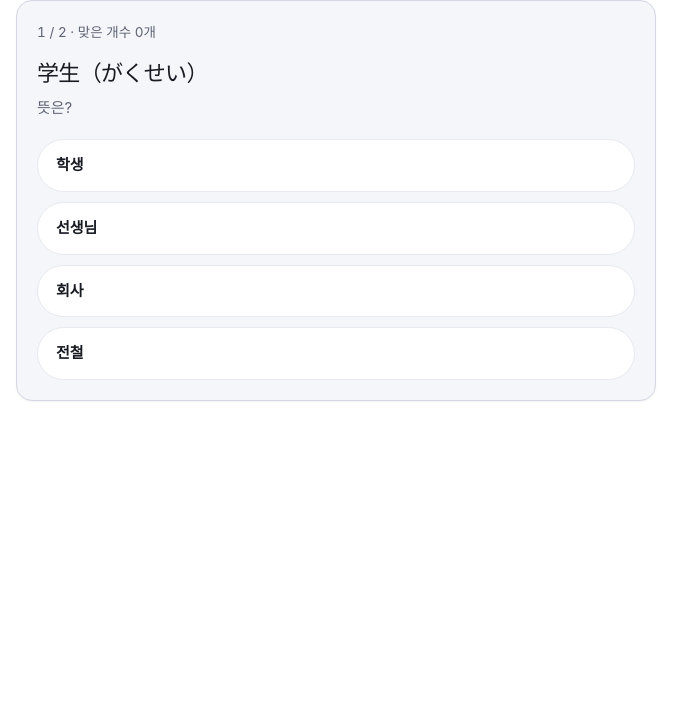
결과 화면 (Q13~Q17·Q23) › 틀린 게 있으면 [틀린 문제만 다시 풀기]가 보이고, 누르면 오답만 다시 나온다 (Q15)
Step 1. Click the button "학생" → (70, 165), box [37,139,635,192]
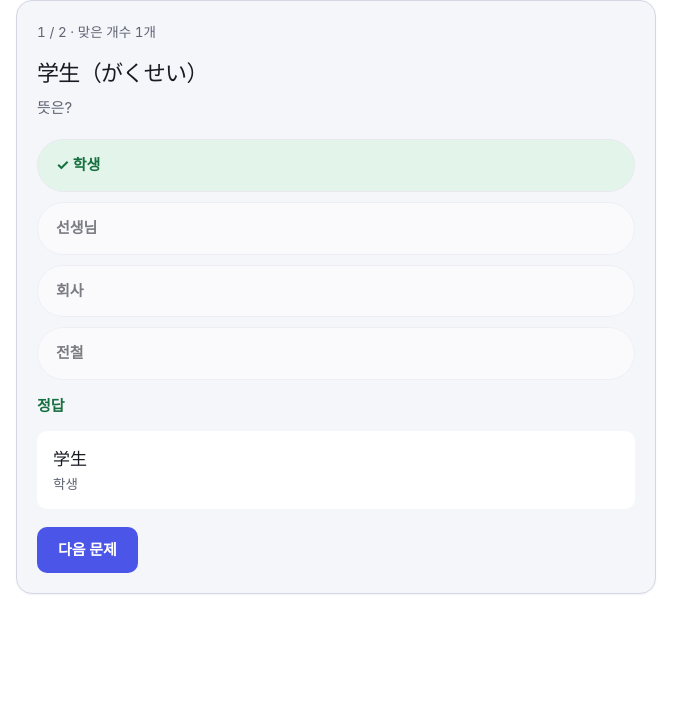
Step 2. Click the button "다음 문제" → (87, 550), box [37,527,138,573]
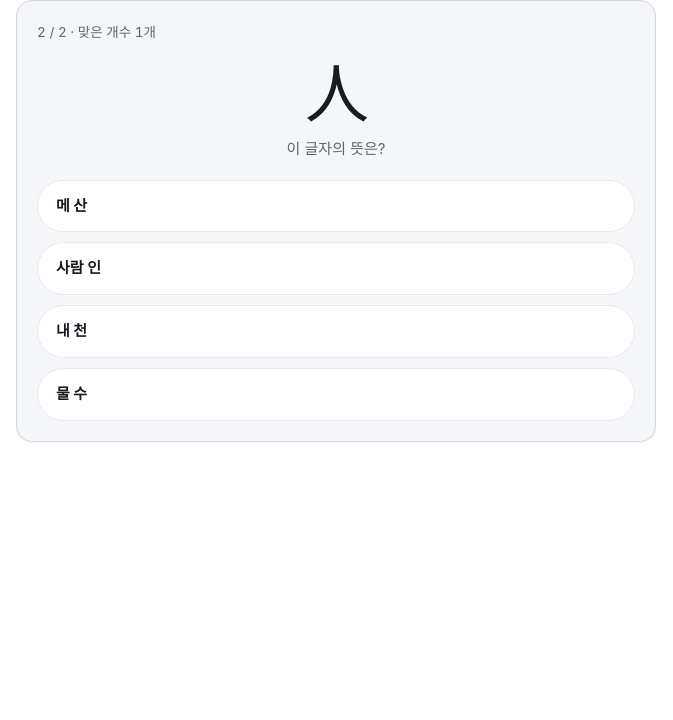
Step 3. Click the button "메 산" → (72, 205), box [37,180,635,232]
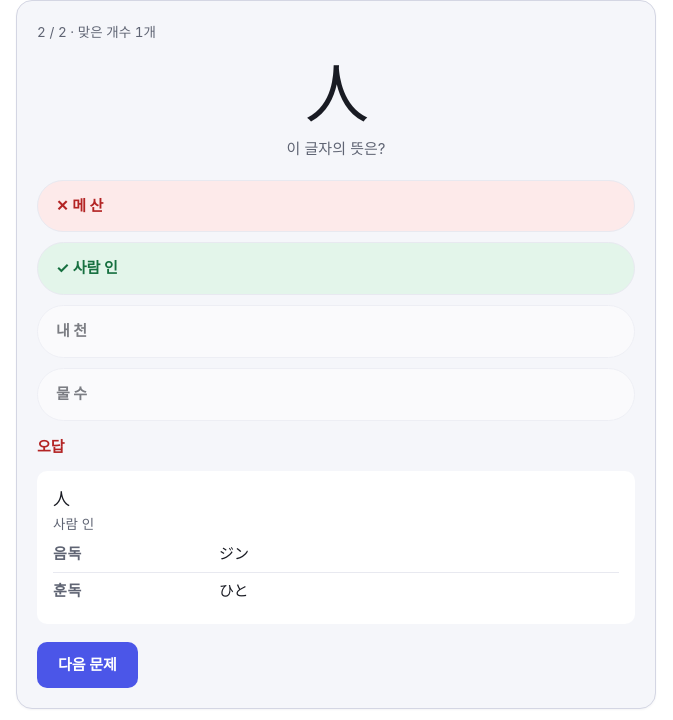
Step 4. Click the button "다음 문제" → (87, 665), box [37,642,138,688]
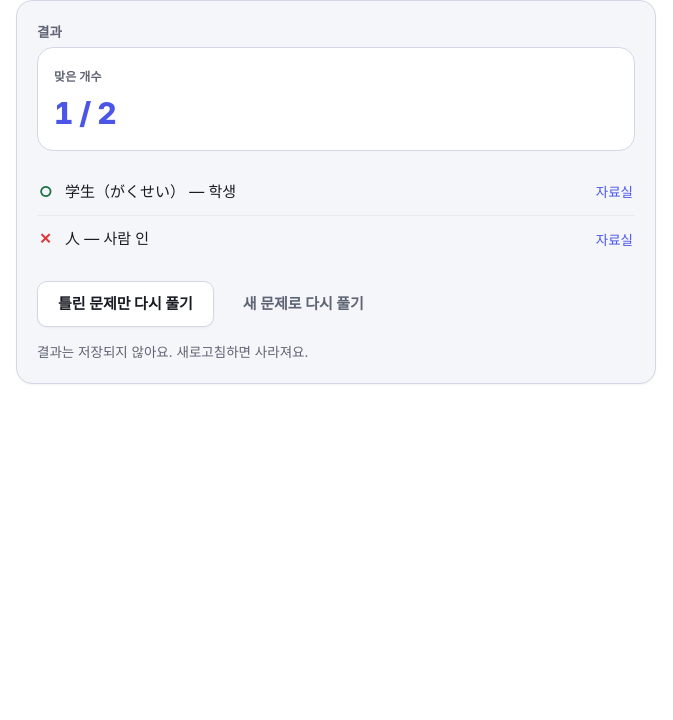
Step 5. Click the button "틀린 문제만 다시 풀기" → (125, 304), box [37,281,214,327]
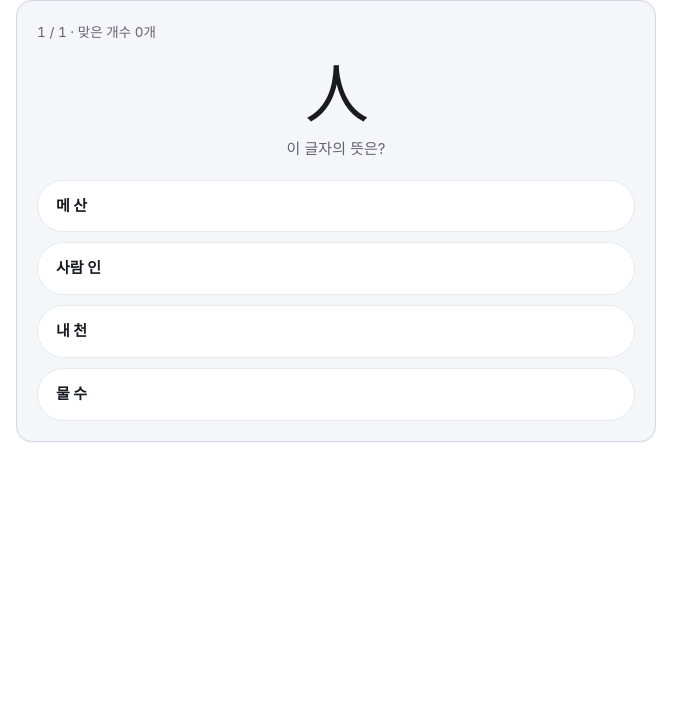
expect the text "人" is shown: met, box [305,55,367,132]
expect the text "1 / 1 · 맞은 개수 0개" is shown: met, box [37,24,156,40]
